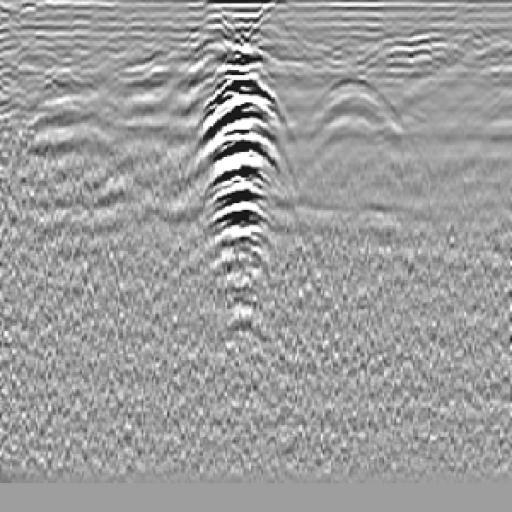metalic: (190, 26, 290, 341)
nonmetalic: (300, 76, 415, 169)
